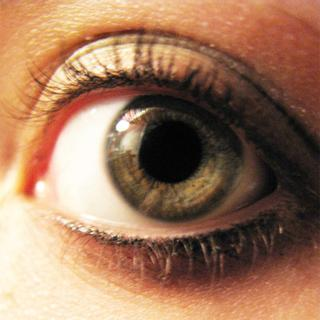pupil: (137, 119, 202, 184)
